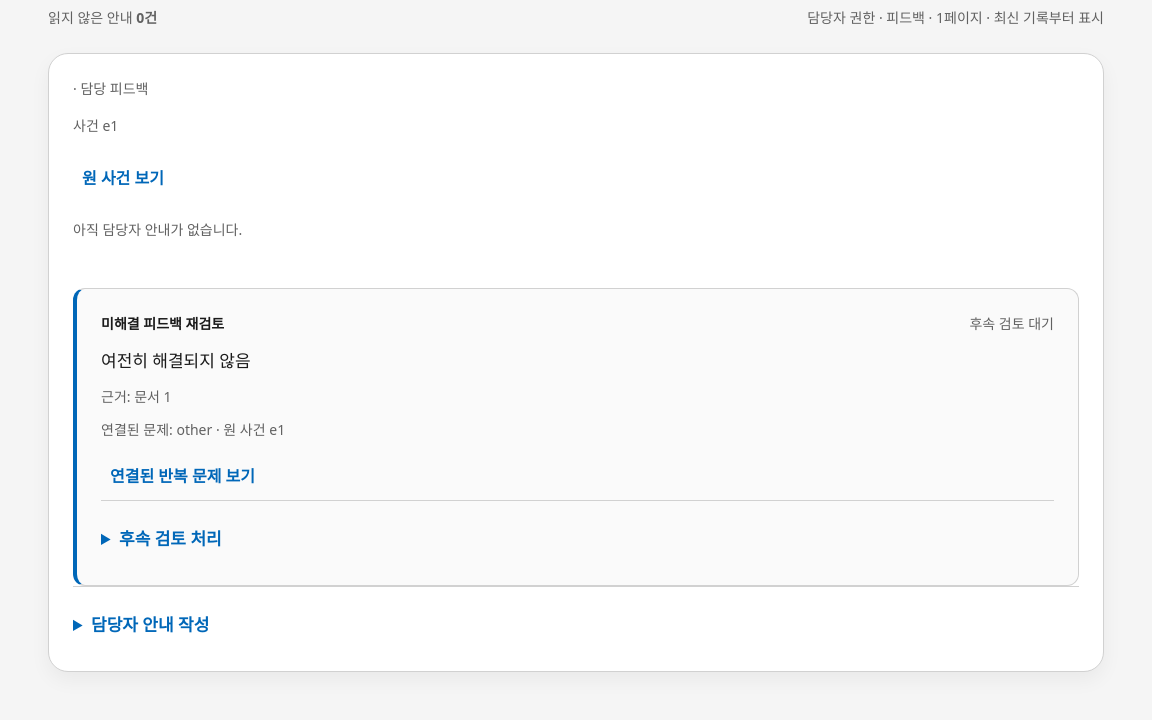
Test case: 필수 업무 흐름 화면 › 후속 검토에서 원인이 연결된 반복 문제로 이동한다
(page scrolled)
Click the button "연결된 반복 문제 보기" at (182, 476), box [101,452,264,500]
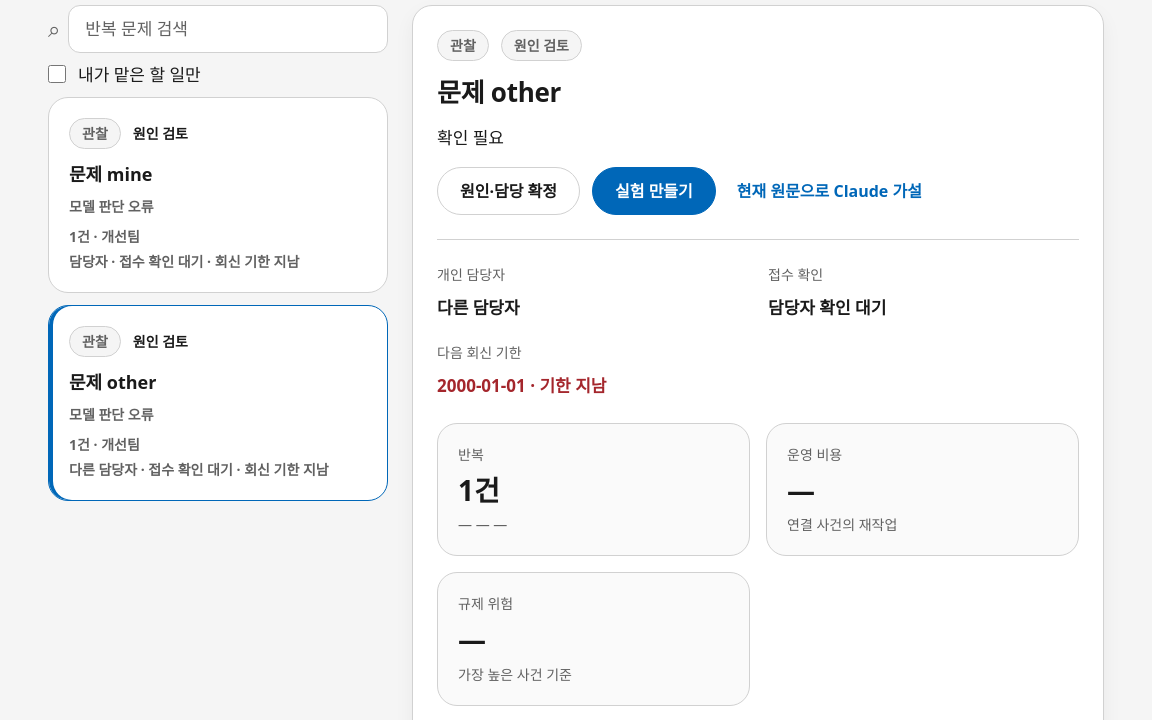
Expected: the heading "문제 other" is shown, [437,74,561,110]
